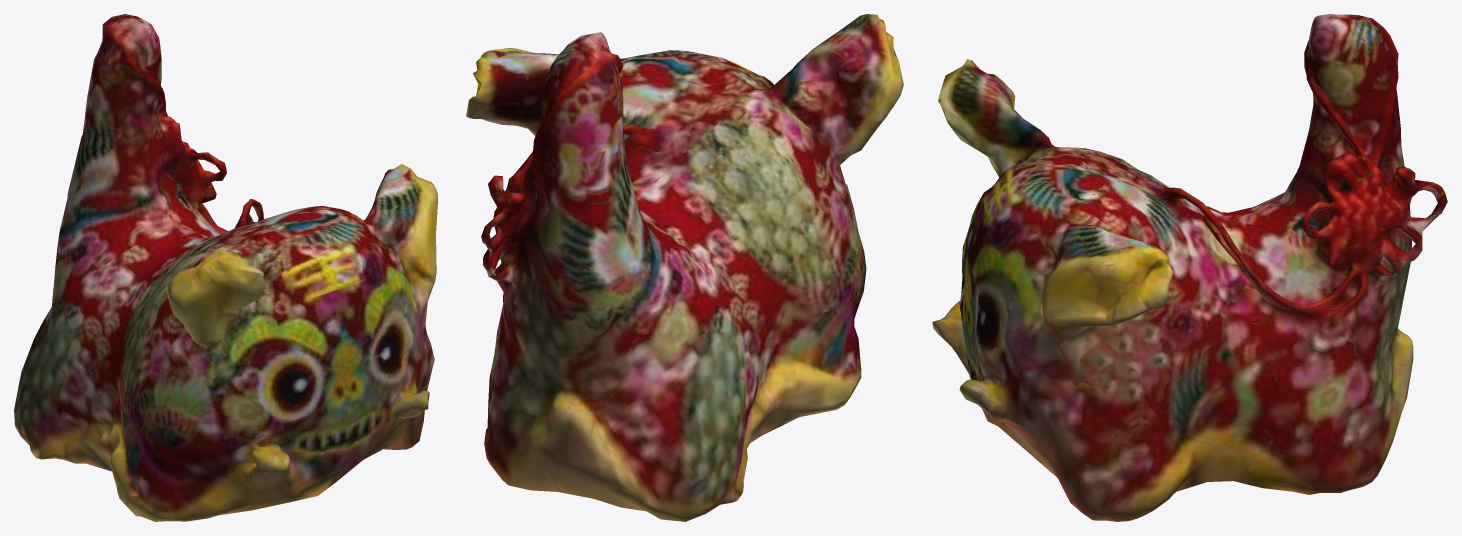
Rendered from hall.glb.
3 views of the same model, side by side, from view 1: azimuth 30°, elevation 25°; view 2: azimuth 150°, elevation 25°; view 3: azimuth 270°, elevation 25° (orthographic). The views are drawn at different scales.
Size of the model in its own units: 0.7596 by 0.923 by 0.9784.
1 material, 1 textured.
